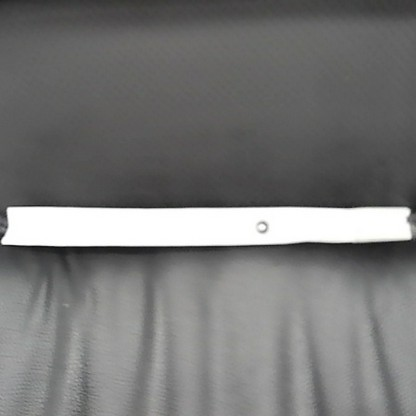ironball: (253, 217, 269, 234)
